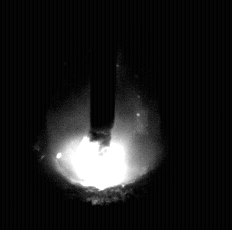arame: (90, 0, 115, 146)
poca: (48, 0, 162, 230)
